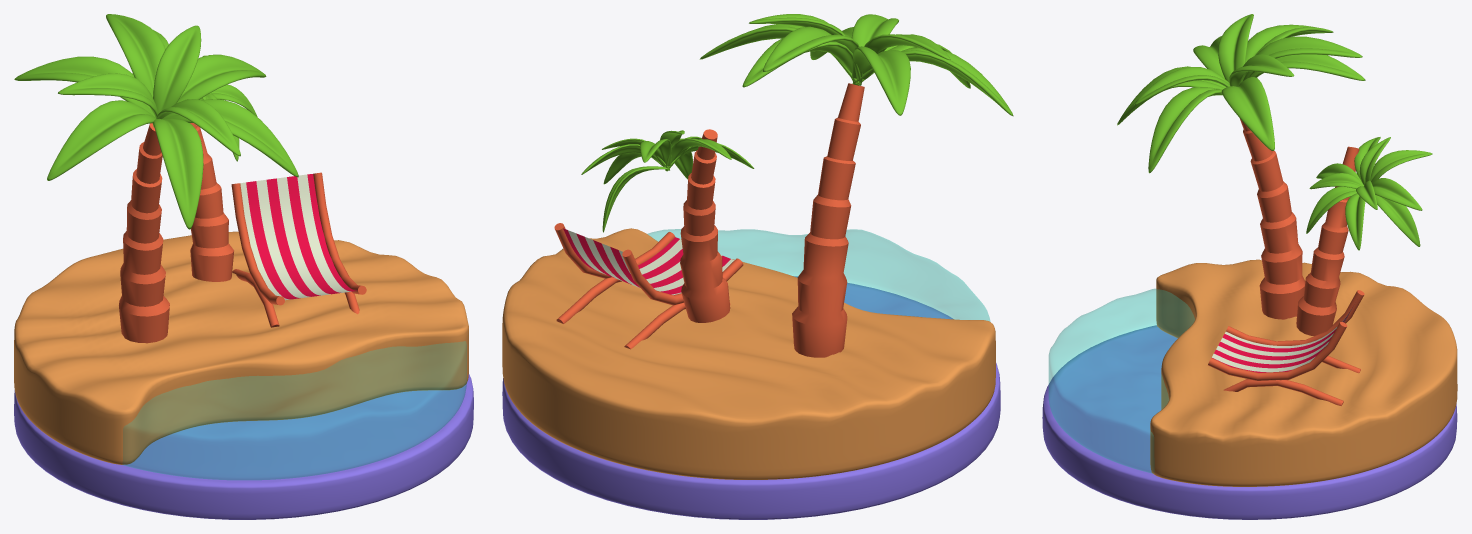
Rendered from island.glb.
The picture shows the model from 3 angles, left to right: view 1: azimuth 30°, elevation 25°; view 2: azimuth 150°, elevation 25°; view 3: azimuth 270°, elevation 25°; orthographic projection. The views are drawn at different scales.
Parts seen in each view (by area): view 1: sand, bottombase, water, Vert, bigtreebase, smalltreebase, Plane.005, Plane.006, Vert.001, Plane.008, Plane.001, Plane.004 (+5 smaller); view 2: sand, bottombase, water, bigtreebase, smalltreebase, Vert, Vert.001, Plane.007, Plane.001, Plane.006, Plane, Plane.003 (+6 smaller); view 3: sand, bottombase, water, bigtreebase, smalltreebase, Vert.001, Vert, Plane.003, Plane.004, Plane.001, Plane.010, Plane (+12 smaller).
Part boxes in pixels (x1,y1,x2,y2): sand: (14,231,468,464); bottombase: (14,374,473,519); water: (122,341,466,479); Vert: (240,174,357,300); bigtreebase: (119,123,169,343); smalltreebase: (190,123,233,281); Plane.005: (153,118,203,229); Plane.006: (47,100,156,180); Vert.001: (231,172,366,327); Plane.008: (153,25,201,117); Plane.001: (106,14,165,113); Plane.004: (153,99,298,177); sand: (502,228,995,479); bottombase: (502,276,1000,519); water: (648,229,990,321); bigtreebase: (792,83,864,357); smalltreebase: (680,129,730,322); Vert: (563,228,734,295); Vert.001: (554,223,743,349); Plane.007: (852,46,910,115); Plane.001: (763,26,862,83); Plane.006: (852,47,1013,116); Plane: (742,37,861,87); Plane.003: (699,24,861,85); sand: (1150,259,1457,486); bottombase: (1042,325,1457,519); water: (1049,289,1194,473); bigtreebase: (1240,119,1305,319); smalltreebase: (1296,146,1359,335); Vert.001: (1208,290,1364,405); Vert: (1211,304,1354,372); Plane.003: (1221,77,1274,150); Plane.004: (1148,87,1222,173); Plane.001: (1243,36,1362,80); Plane.010: (1218,14,1253,82); Plane: (1250,54,1365,80).
Size of the model in its own units: 8.35 by 7.51 by 7.95.
